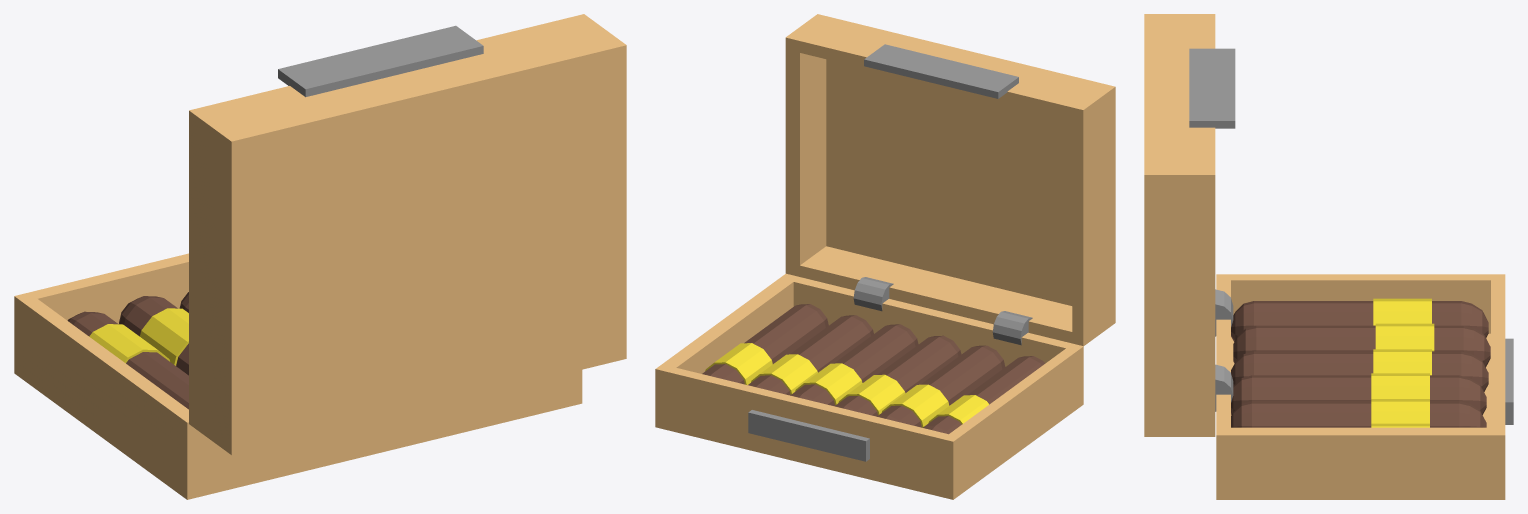
Rendered from product-foodbox.glb.
3 views of the same model, side by side, from view 1: azimuth 30°, elevation 25°; view 2: azimuth 150°, elevation 25°; view 3: azimuth 270°, elevation 25° (orthographic). The views are drawn at different scales.
Parts seen in each view (by area): view 1: Node; view 2: Node; view 3: Node.
Boxes of the visible parts, left/top/right/bottom form: Node: left=14, top=14, right=626, bottom=499; Node: left=655, top=14, right=1115, bottom=499; Node: left=1144, top=14, right=1513, bottom=499.
Bounding box in the file's own units: 1.83 × 1.75 × 1.77.
